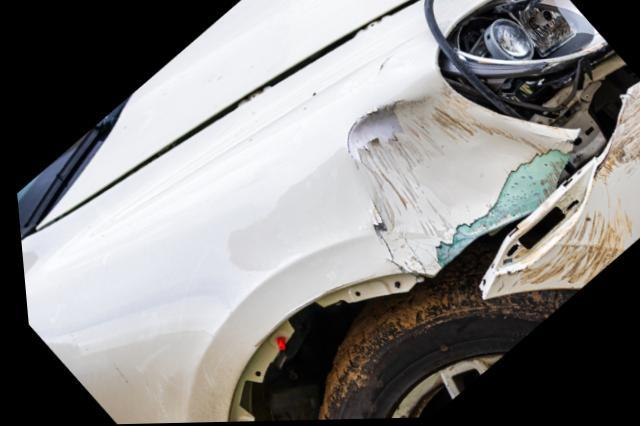dent: (345, 84, 572, 277)
dislocated part: (411, 60, 640, 303)
lamp broken: (439, 0, 620, 139)
scratch: (486, 88, 640, 295)
